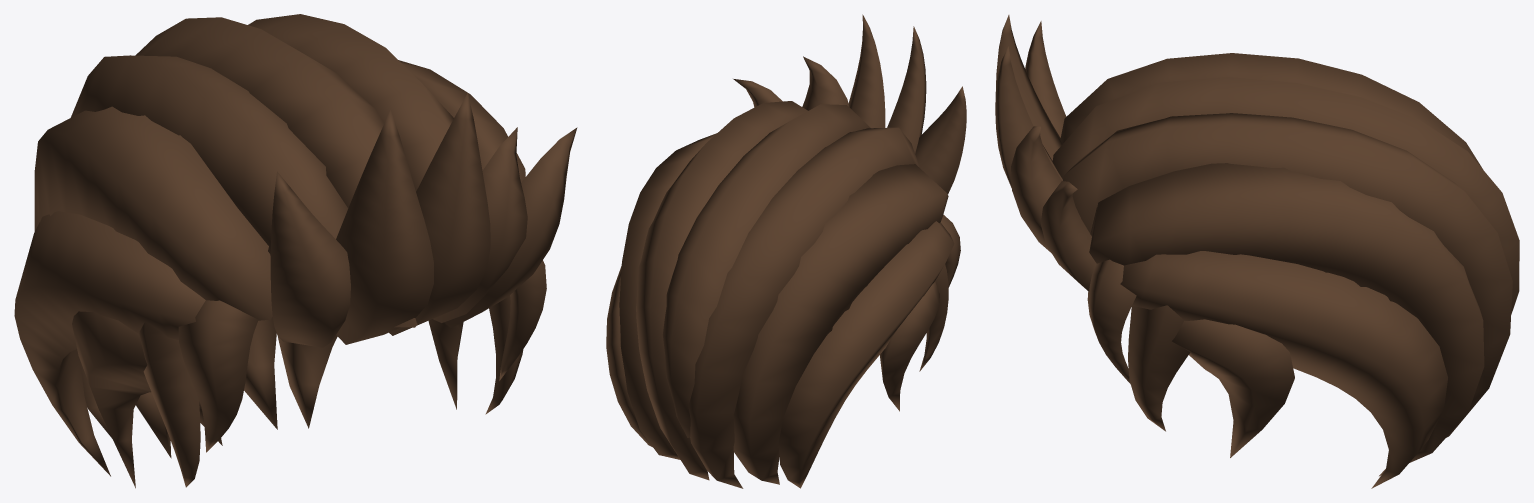
The model's file is umm_beach.glb.
3 renders of one model, left to right at view 1: azimuth 30°, elevation 25°; view 2: azimuth 150°, elevation 25°; view 3: azimuth 270°, elevation 25°, orthographic. The views are drawn at different scales.
Visible parts, largest first — view 1: Beach; view 2: Beach; view 3: Beach.
Boxes of the visible parts, x1=… form: Beach: x1=14, y1=14, x2=577, y2=488; Beach: x1=606, y1=14, x2=966, y2=488; Beach: x1=995, y1=15, x2=1519, y2=488.
Bounding box in the file's own units: 0.1952 × 0.2362 × 0.2633.
